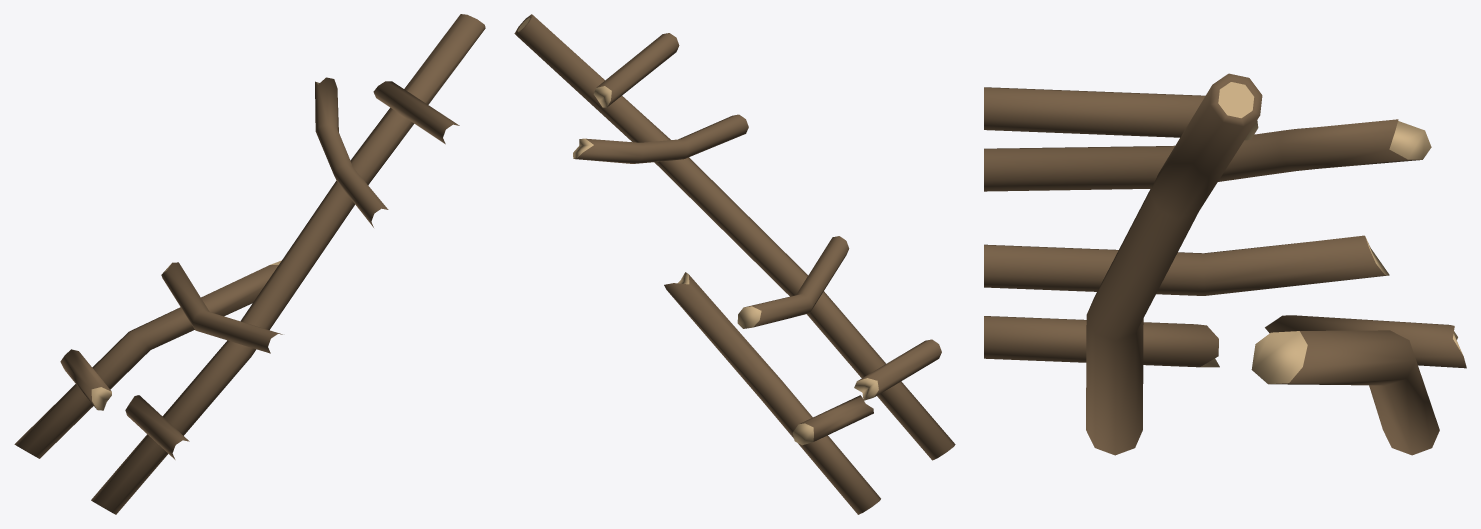
File: rpgpp_av_roof_support_01_9x4x3_half_c.gltf
3 renders of one model, left to right at view 1: azimuth 30°, elevation 25°; view 2: azimuth 150°, elevation 25°; view 3: azimuth 270°, elevation 25°, orthographic. The views are drawn at different scales.
Visible parts, largest first — view 1: rpgpp_av_roof_support_01_9x4x3_half_c; view 2: rpgpp_av_roof_support_01_9x4x3_half_c; view 3: rpgpp_av_roof_support_01_9x4x3_half_c.
Part boxes in pixels (<box>): rpgpp_av_roof_support_01_9x4x3_half_c: <box>14,14,485,514</box>; rpgpp_av_roof_support_01_9x4x3_half_c: <box>514,14,955,514</box>; rpgpp_av_roof_support_01_9x4x3_half_c: <box>984,73,1466,455</box>.
Size of the model in its own units: 0.0528 by 0.0461 by 0.0271.
1 material, 1 textured.
